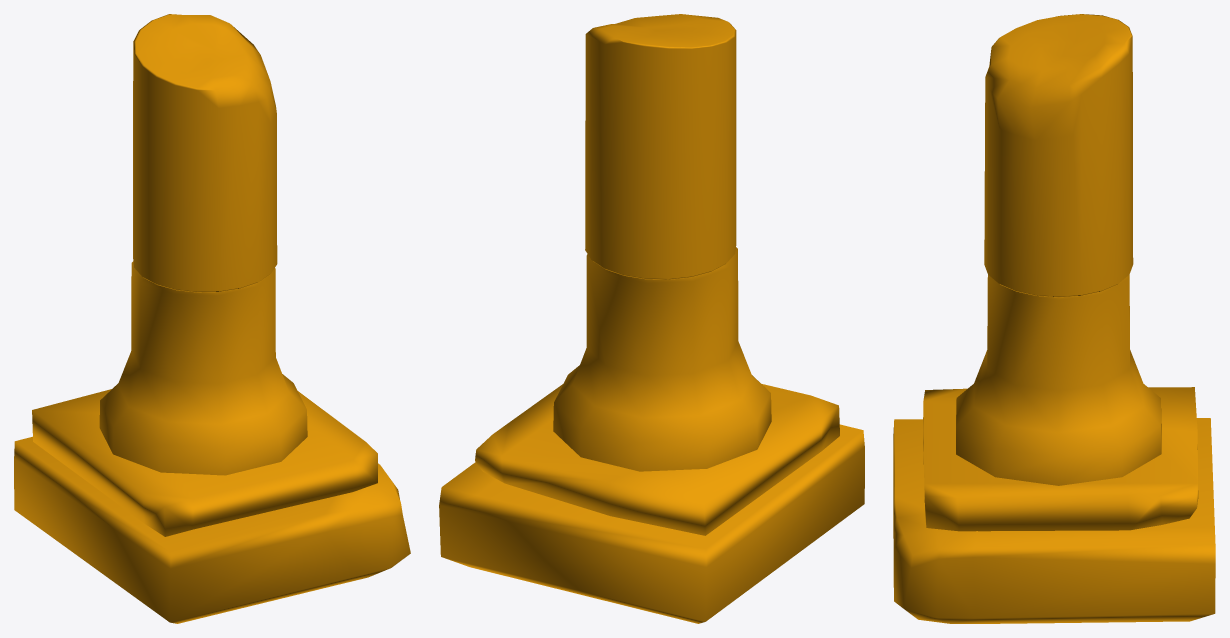
File: Pillar_04_Lod1.fbx
The picture shows the model from 3 angles, left to right: view 1: azimuth 30°, elevation 25°; view 2: azimuth 150°, elevation 25°; view 3: azimuth 270°, elevation 25°; orthographic projection. The views are drawn at different scales.
Visible parts, largest first — view 1: Pillar_04_Lod1; view 2: Pillar_04_Lod1; view 3: Pillar_04_Lod1.
Part boxes in pixels (x1=…): Pillar_04_Lod1: x1=14, y1=14, x2=410, y2=623; Pillar_04_Lod1: x1=439, y1=14, x2=864, y2=623; Pillar_04_Lod1: x1=893, y1=14, x2=1215, y2=623.
Size of the model in its own units: 563 by 1074 by 594.
